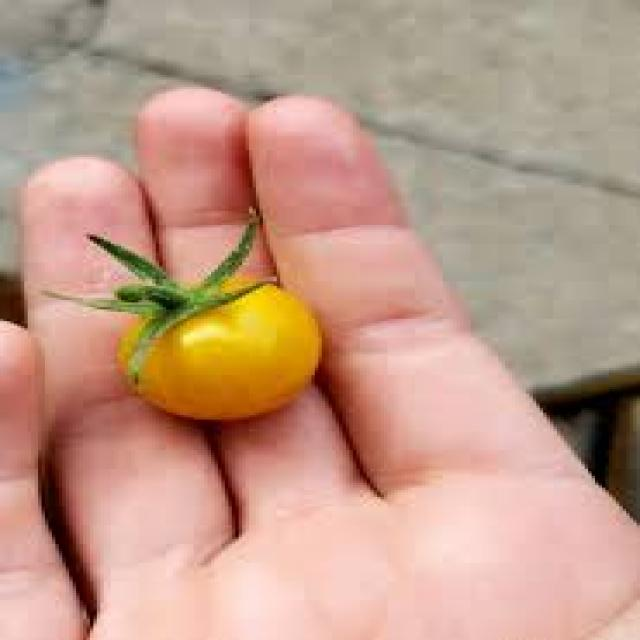level 4: (96, 268, 338, 431)
